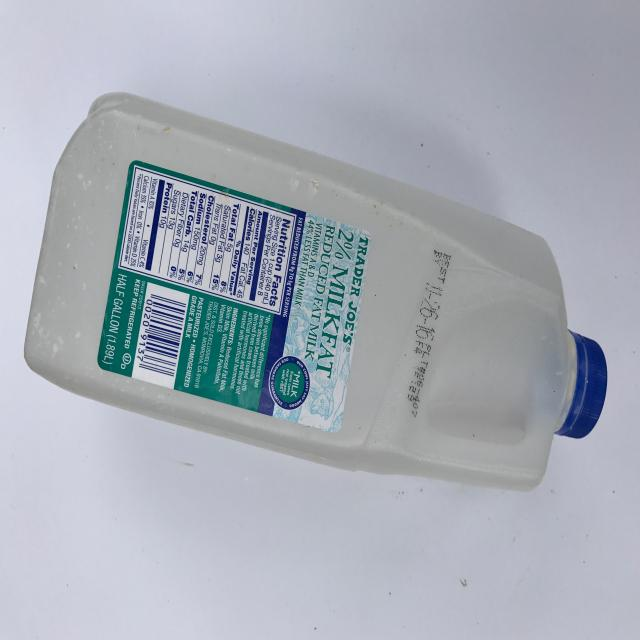plastic: (24, 90, 606, 492)
